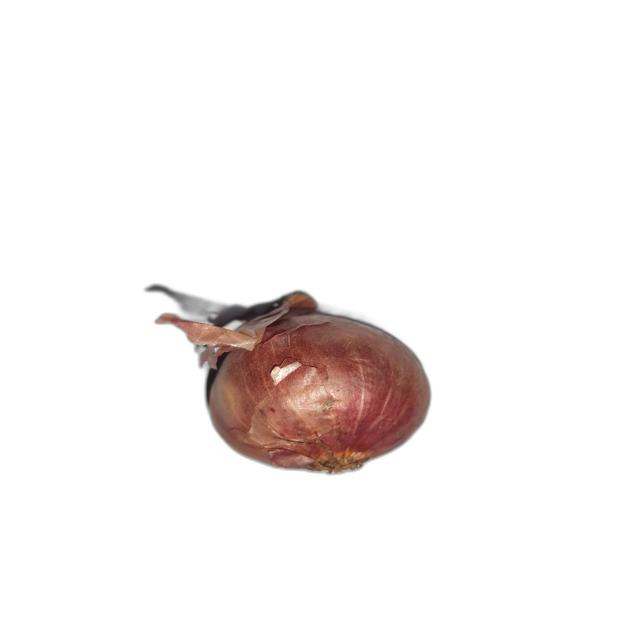onion: (152, 290, 436, 476)
